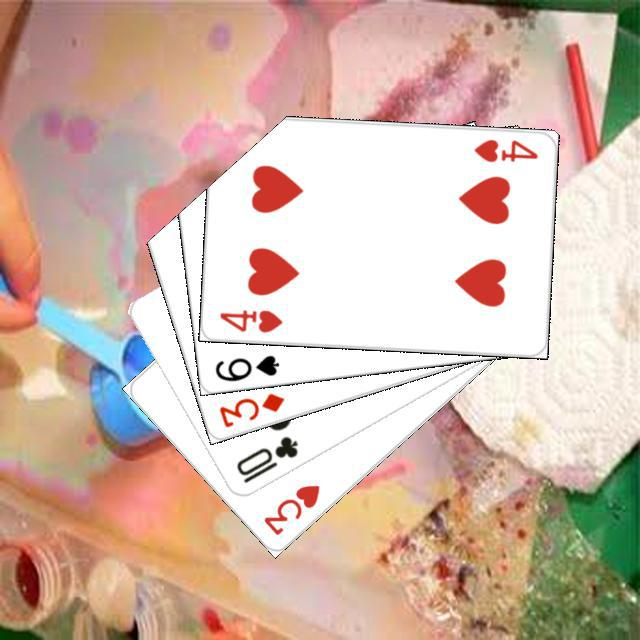10c: (231, 431, 300, 485)
3d: (214, 388, 286, 429)
3h: (258, 479, 322, 537)
4h: (214, 304, 284, 335), (469, 134, 539, 164)
6s: (210, 350, 281, 383)
